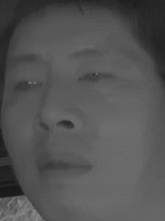eye: (74, 68, 115, 90), (10, 75, 43, 97)
mouth: (34, 149, 93, 188)
